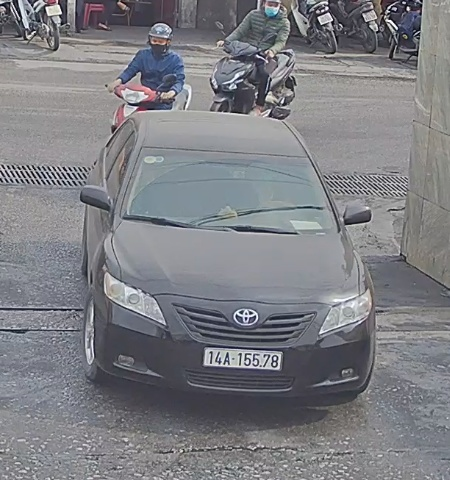vehicle plate: (200, 342, 286, 373)
